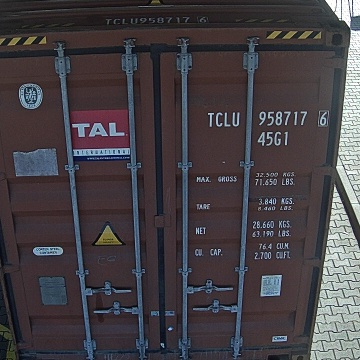serial_id: (207, 111, 327, 126)
